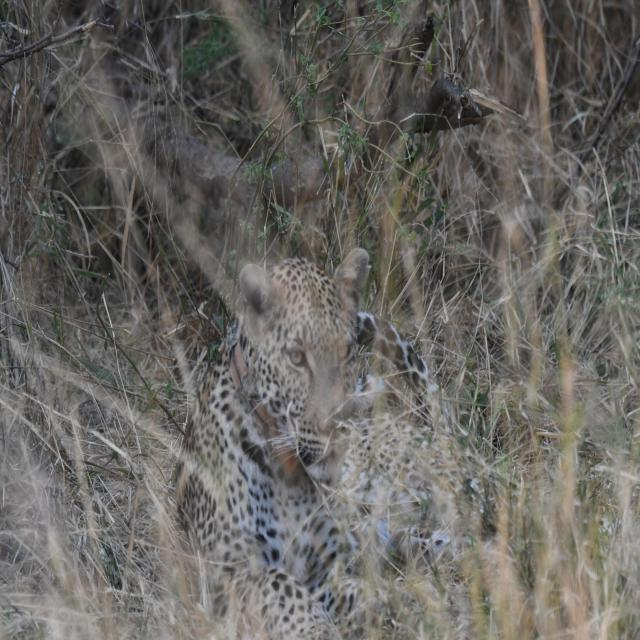Leopard: (159, 242, 490, 638)
